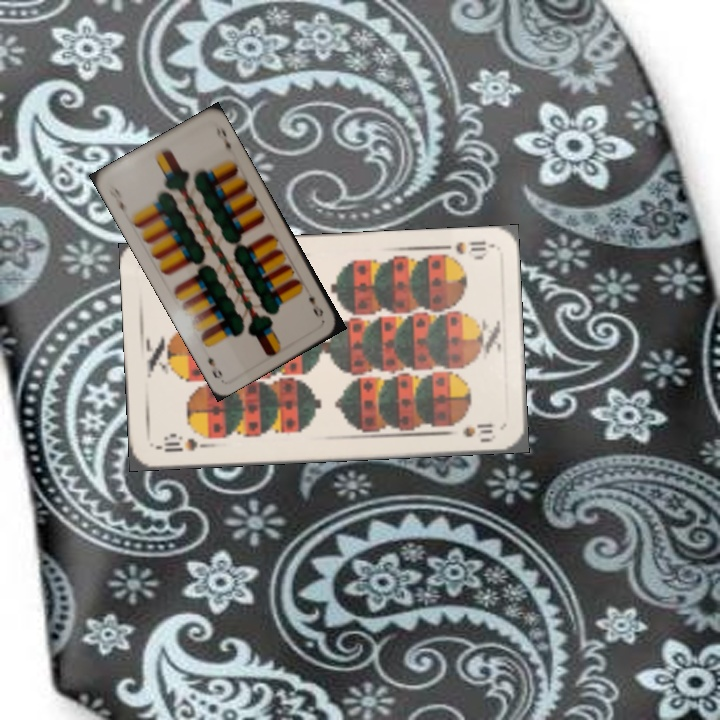E9: (104, 181, 128, 218), (304, 293, 326, 321)
S10: (434, 237, 493, 262), (153, 433, 212, 455)
